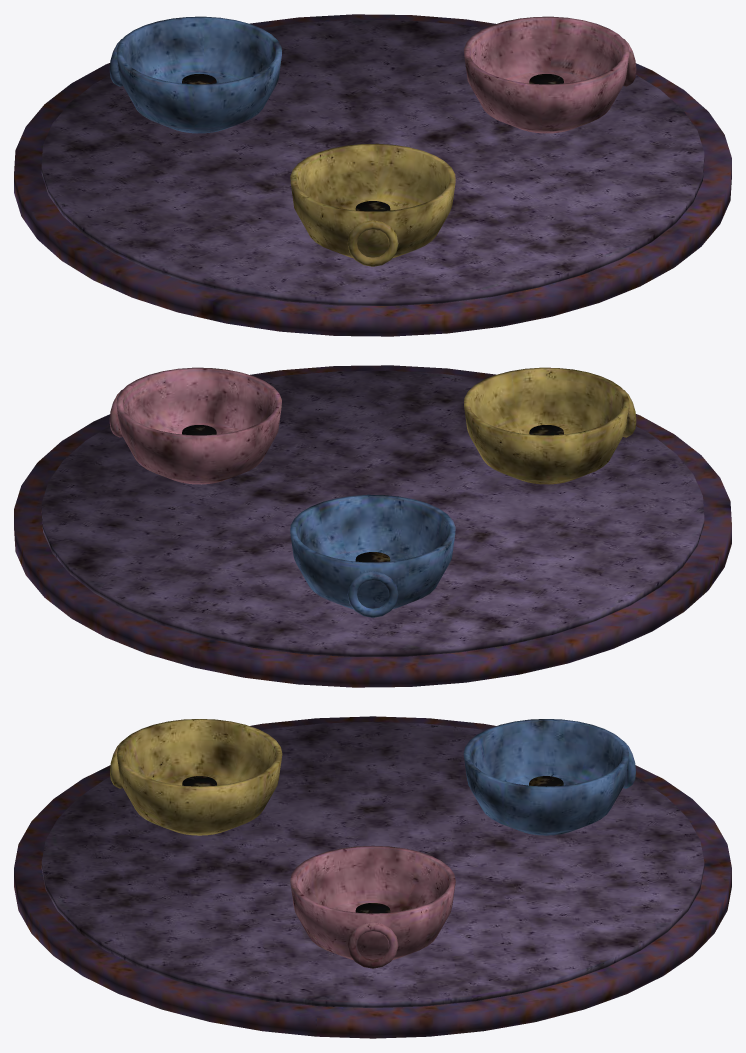
File: teacups.glb
3 views of the same model, one above another, from view 1: azimuth 30°, elevation 25°; view 2: azimuth 150°, elevation 25°; view 3: azimuth 270°, elevation 25° (orthographic).
Parts seen in each view (by area): view 1: Spin, Main; view 2: Spin, Main; view 3: Spin, Main.
Boxes of the visible parts, x1,y1,x2,y2 form: Spin: [41, 16, 704, 305]; Main: [14, 14, 731, 336]; Spin: [41, 367, 704, 656]; Main: [14, 365, 731, 687]; Spin: [41, 719, 704, 1007]; Main: [14, 716, 731, 1038].
Bounding box in the file's own units: 10.4 × 1.45 × 10.4.
2 materials, 2 textured.
